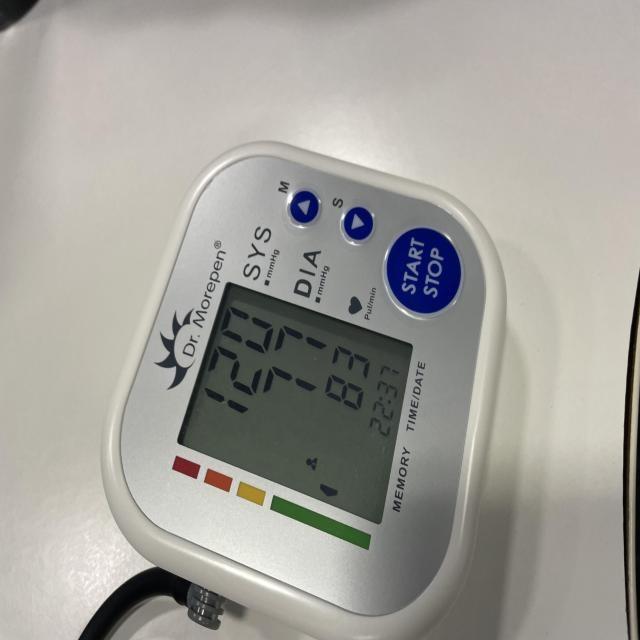bp: (98, 142, 504, 640)
